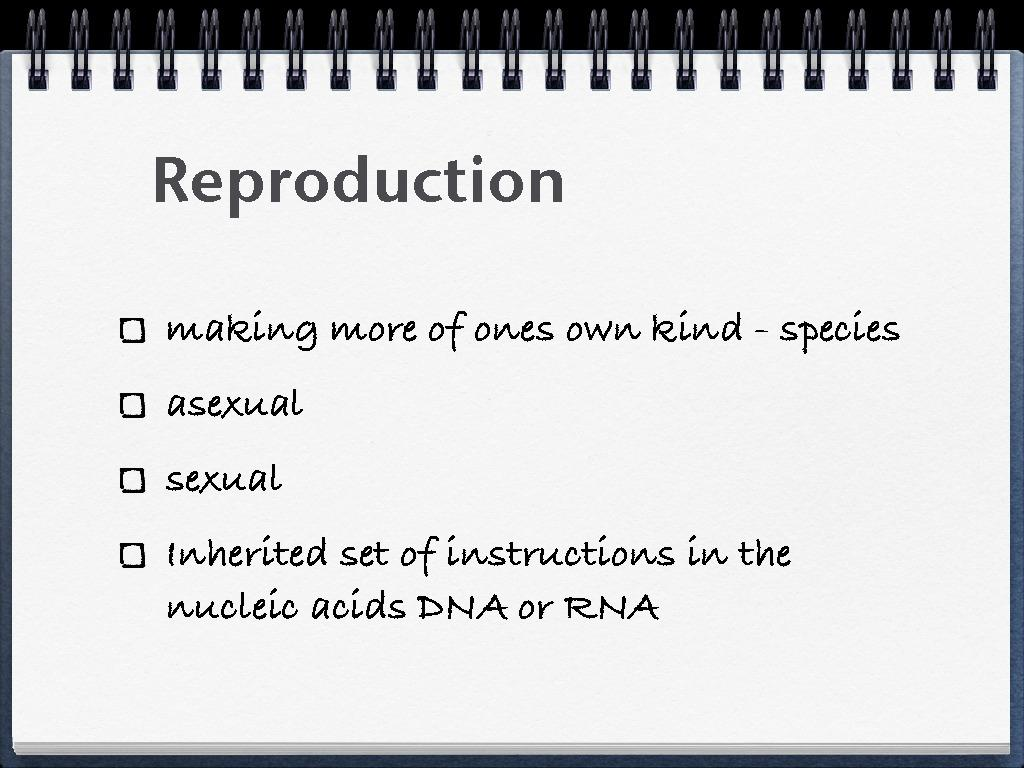paragraph: (104, 273, 915, 636)
title: (145, 136, 571, 221)
